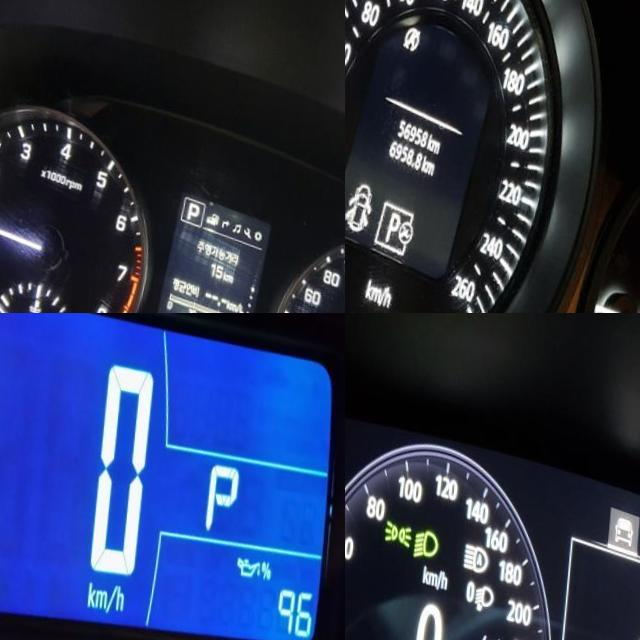Low beam: (417, 520, 444, 558)
SideLamp: (388, 514, 416, 543)
